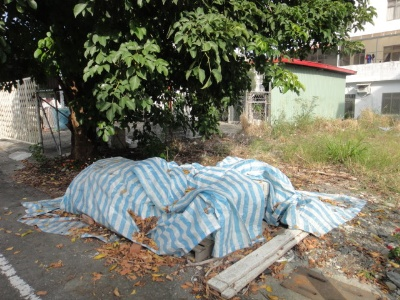plastic_bag: (21, 153, 370, 259)
